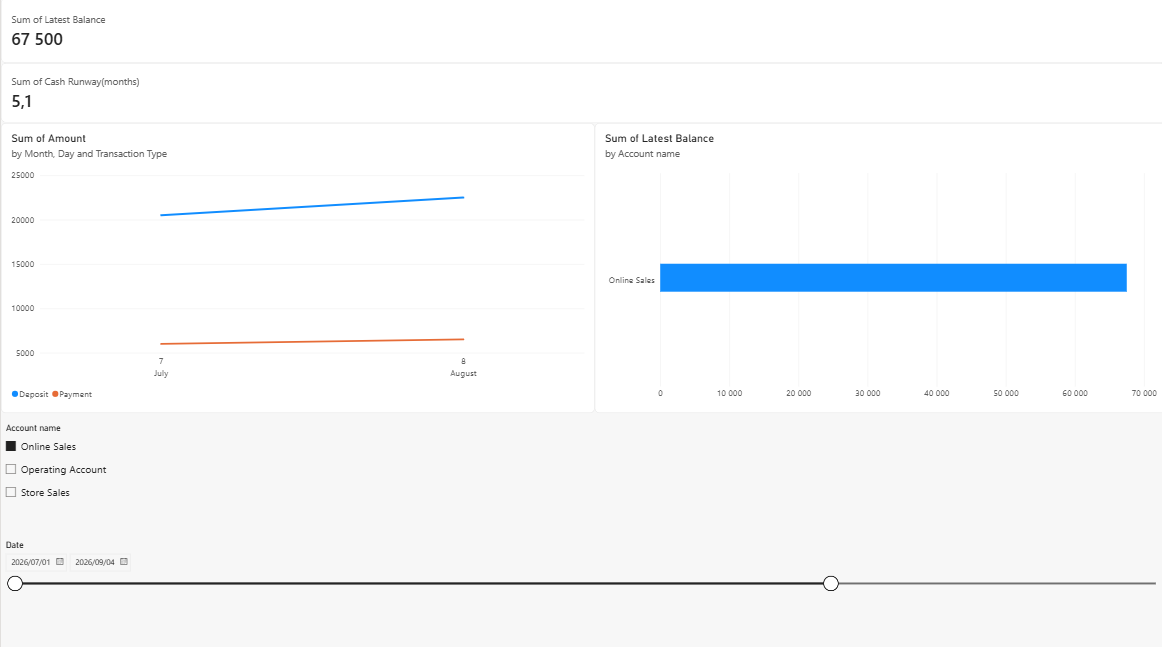

What the dashboard file says about the page in this screenshot:
{"tool":"powerbi","page":{"name":"Page 1","canvas":[1920,1080],"ordinal":0},"visuals":[{"type":"cardVisual","fields":{"Data":["Sum(Latest Balances.Latest Balance)"]},"box":[0,0,1920.4,107],"z":0},{"type":"cardVisual","fields":{"Data":["Sum(Indicators.Cash Runway(months))"]},"box":[0,107,1920.4,98.8],"z":1000},{"type":"clusteredBarChart","fields":{"Category":["Latest Balances.Account name"],"Y":["Sum(Latest Balances.Latest Balance)"]},"box":[977.7,205.8,942.7,477.5],"z":2000},{"type":"lineChart","fields":{"Category":["Transactions.Month.Variation.Date Hierarchy.Month","Transactions.Month.Variation.Date Hierarchy.Day"],"Series":["Transactions.Transaction Type"],"Y":["Sum(Transactions.Amount)"]},"box":[0,205.8,977.7,477.5],"z":3000},{"type":"slicer","fields":{"Values":["Latest Balances.Account name"]},"box":[0,699.8,1920.4,177],"z":4000},{"type":"slicer","fields":{"Values":["Transactions.Date"]},"box":[0,891.3,1920.4,189.4],"z":5000}]}

Visuals, with their boxes in screenshot pixels (x1, y1, x2, y2), scaled from the page's 1920x1080 canvas onto the 1162x647 screenshot:
cardVisual - Sum(Latest Balances.Latest Balance): {"left": 0, "top": 0, "right": 1161, "bottom": 64}
cardVisual - Sum(Indicators.Cash Runway(months)): {"left": 0, "top": 64, "right": 1161, "bottom": 123}
clusteredBarChart - Latest Balances.Account name x Sum(Latest Balances.Latest Balance): {"left": 592, "top": 123, "right": 1161, "bottom": 409}
lineChart - Transactions.Month.Variation.Date Hierarchy.Month x Transactions.Month.Variation.Date Hierarchy.Day: {"left": 0, "top": 123, "right": 592, "bottom": 409}
slicer - Latest Balances.Account name: {"left": 0, "top": 419, "right": 1161, "bottom": 525}
slicer - Transactions.Date: {"left": 0, "top": 534, "right": 1161, "bottom": 646}
